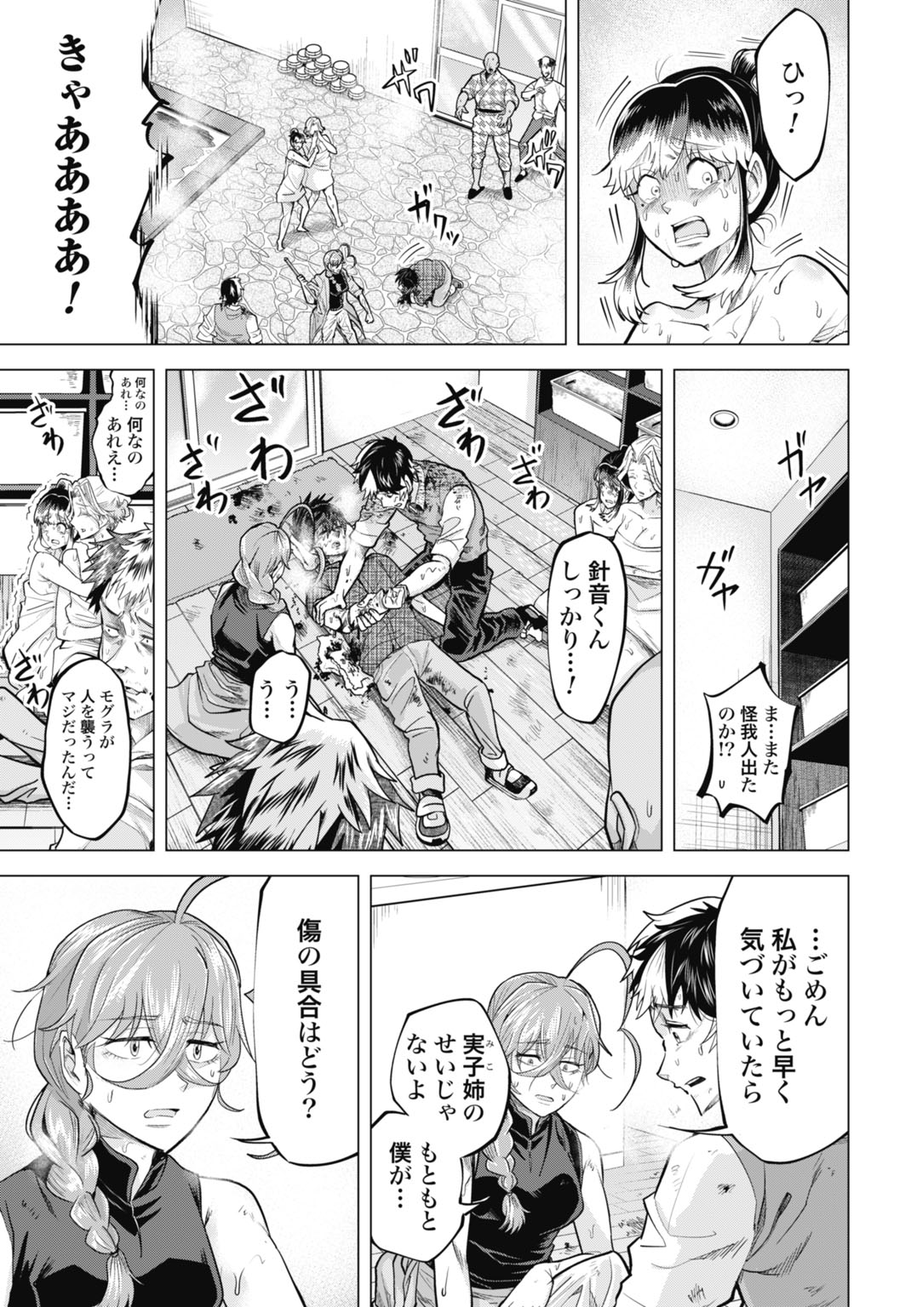bubbles: (3, 3, 184, 345), (701, 876, 849, 1178), (370, 998, 529, 1267), (238, 877, 357, 1186), (38, 649, 134, 846), (545, 522, 628, 732), (697, 661, 800, 830), (752, 3, 836, 186), (241, 640, 322, 751), (88, 370, 154, 500)
